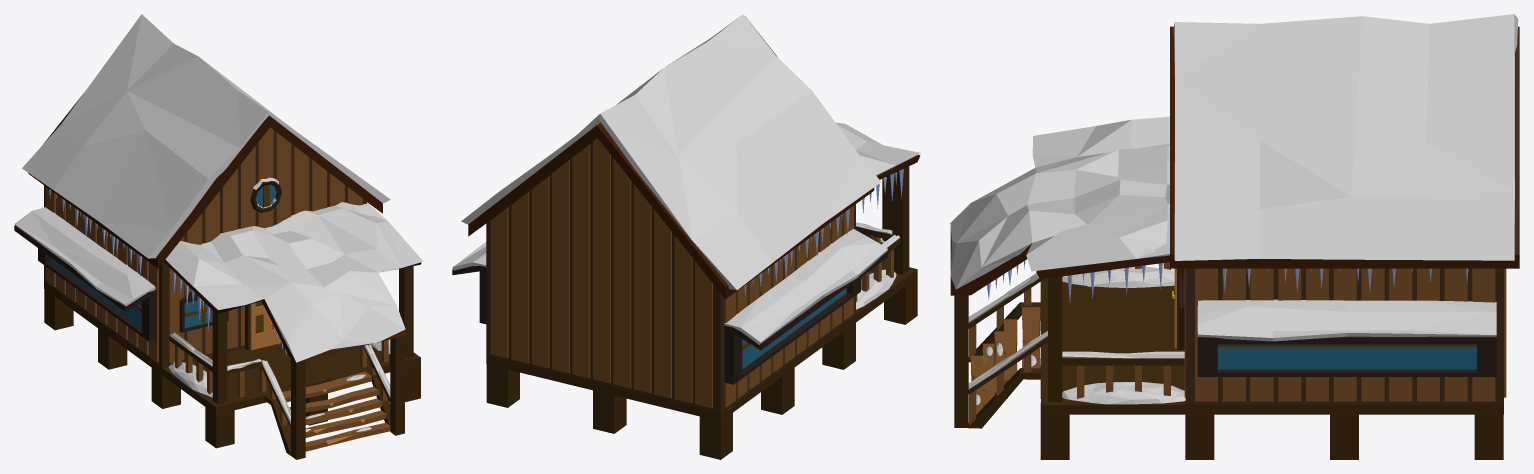
File: House_03.fbx
The picture shows the model from 3 angles, left to right: view 1: azimuth 30°, elevation 25°; view 2: azimuth 150°, elevation 25°; view 3: azimuth 270°, elevation 25°; orthographic projection. The views are drawn at different scales.
Visible parts, largest first — view 1: House_03_Snow, House_03_Detail_01, House_03_Detail_02, House_03, House_03_Stairs, House_03_Window_Detail_01, House_03_Detail_03, House_03_Roof, House_03_Door_Detail_01, House_03_Icicles, House_03_Detail_04; view 2: House_03_Snow, House_03_Detail_02, House_03, House_03_Detail_01, House_03_Window_Detail_01, House_03_Icicles, House_03_Detail_03; view 3: House_03_Snow, House_03_Detail_01, House_03_Detail_02, House_03, House_03_Window_Detail_01, House_03_Stairs, House_03_Roof, House_03_Detail_03, House_03_Detail_04, House_03_Icicles, House_03_Window_Detail_02.
Boxes of the visible parts, <box> form: House_03_Snow: <box>14,14,423,431</box>; House_03_Detail_01: <box>44,266,420,459</box>; House_03_Detail_02: <box>45,127,362,363</box>; House_03: <box>28,93,382,367</box>; House_03_Stairs: <box>264,370,390,455</box>; House_03_Window_Detail_01: <box>14,181,281,341</box>; House_03_Detail_03: <box>175,340,388,449</box>; House_03_Roof: <box>164,260,421,361</box>; House_03_Door_Detail_01: <box>250,301,281,350</box>; House_03_Icicles: <box>49,189,286,355</box>; House_03_Detail_04: <box>169,336,390,427</box>; House_03_Snow: <box>452,14,920,344</box>; House_03_Detail_02: <box>490,138,853,408</box>; House_03: <box>468,16,874,412</box>; House_03_Detail_01: <box>486,166,917,459</box>; House_03_Window_Detail_01: <box>452,251,887,384</box>; House_03_Icicles: <box>744,169,903,295</box>; House_03_Detail_03: <box>856,236,893,301</box>; House_03_Snow: <box>950,14,1518,404</box>; House_03_Detail_01: <box>954,276,1503,459</box>; House_03_Detail_02: <box>1184,268,1506,401</box>; House_03: <box>1170,26,1519,404</box>; House_03_Window_Detail_01: <box>1179,275,1496,376</box>; House_03_Stairs: <box>968,302,1040,428</box>; House_03_Roof: <box>950,228,1169,295</box>; House_03_Detail_03: <box>969,262,1170,425</box>; House_03_Detail_04: <box>968,278,1184,394</box>; House_03_Icicles: <box>987,261,1468,302</box>; House_03_Window_Detail_02: <box>1217,344,1476,346</box>.
Bounding box in the file's own units: 587 × 577 × 787.
